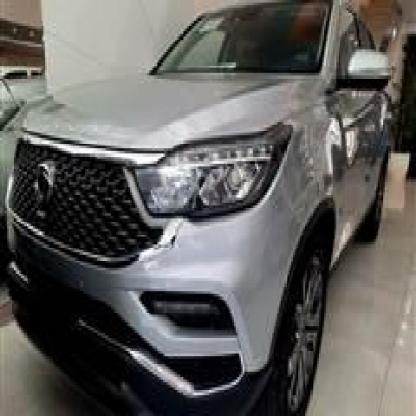Car: (0, 0, 400, 416)
